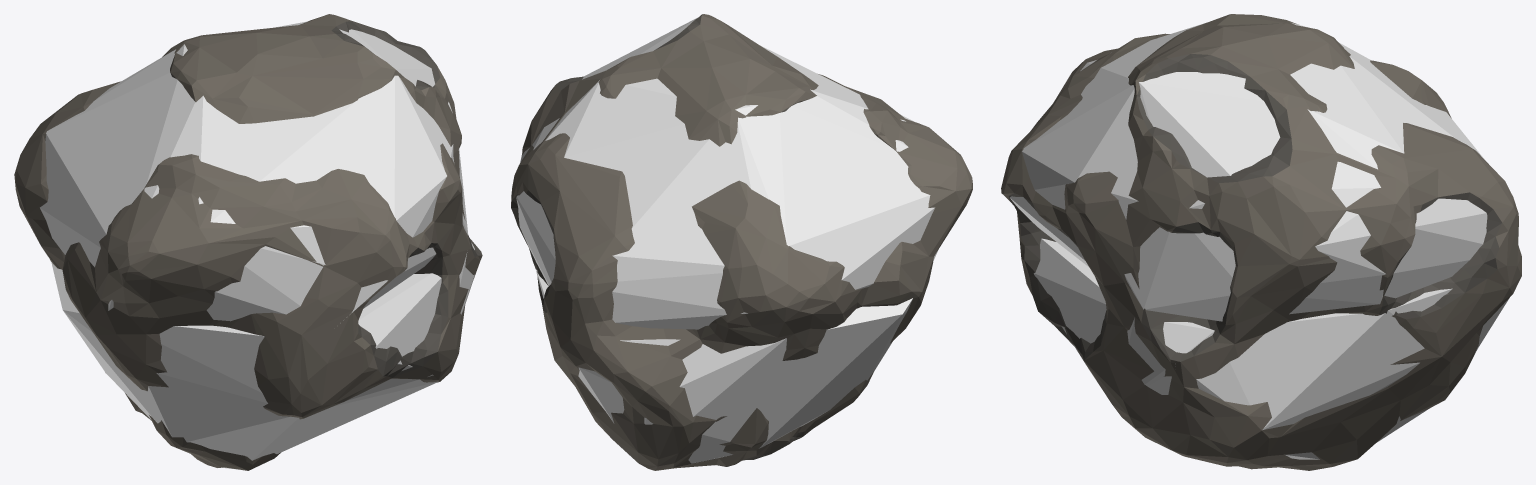
The model's file is SM_Env_Asteroid_Large_Holes_01.fbx.
3 views of the same model, side by side, from view 1: azimuth 30°, elevation 25°; view 2: azimuth 150°, elevation 25°; view 3: azimuth 270°, elevation 25° (orthographic). The views are drawn at different scales.
Visible parts, largest first — view 1: SM_Env_Asteroid_Large_Holes_01_LOD0, SM_Env_Asteroid_Large_Holes_01_ConvexHulls; view 2: SM_Env_Asteroid_Large_Holes_01_LOD0, SM_Env_Asteroid_Large_Holes_01_ConvexHulls; view 3: SM_Env_Asteroid_Large_Holes_01_LOD0, SM_Env_Asteroid_Large_Holes_01_ConvexHulls.
Part boxes in pixels (box(x1,y1,x2,y2)): SM_Env_Asteroid_Large_Holes_01_LOD0: box(14, 14, 482, 470); SM_Env_Asteroid_Large_Holes_01_ConvexHulls: box(40, 21, 474, 469); SM_Env_Asteroid_Large_Holes_01_LOD0: box(511, 14, 972, 470); SM_Env_Asteroid_Large_Holes_01_ConvexHulls: box(516, 17, 938, 463); SM_Env_Asteroid_Large_Holes_01_LOD0: box(1001, 14, 1521, 470); SM_Env_Asteroid_Large_Holes_01_ConvexHulls: box(1010, 23, 1509, 459).
Size of the model in its own units: 1809 by 1633 by 1658.
1 material, 1 textured.
